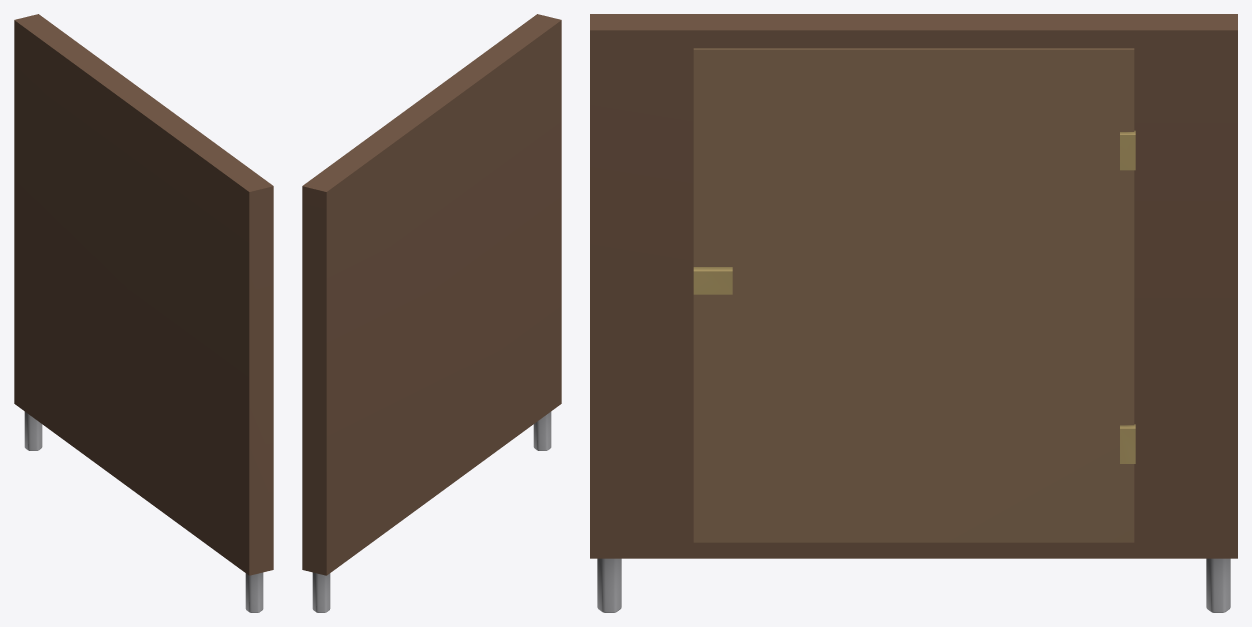
The model's file is stall.glb.
3 views of the same model, side by side, from view 1: azimuth 30°, elevation 25°; view 2: azimuth 150°, elevation 25°; view 3: azimuth 270°, elevation 25° (orthographic). The views are drawn at different scales.
Parts seen in each view (by area): view 1: boat_darkwood, boat_chrome2; view 2: boat_darkwood, boat_chrome2; view 3: boat_oak, boat_darkwood, boat_chrome2, boat_brass2.
Boxes of the visible parts, x1,y1,x2,y2 form: boat_darkwood: (14,14,273,575); boat_chrome2: (24,411,263,612); boat_darkwood: (302,14,561,575); boat_chrome2: (312,411,551,612); boat_oak: (693,48,1134,542); boat_darkwood: (590,14,1237,558); boat_chrome2: (597,558,1230,612); boat_brass2: (693,130,1135,463).
Size of the model in its own units: 0.082 by 1 by 1.
